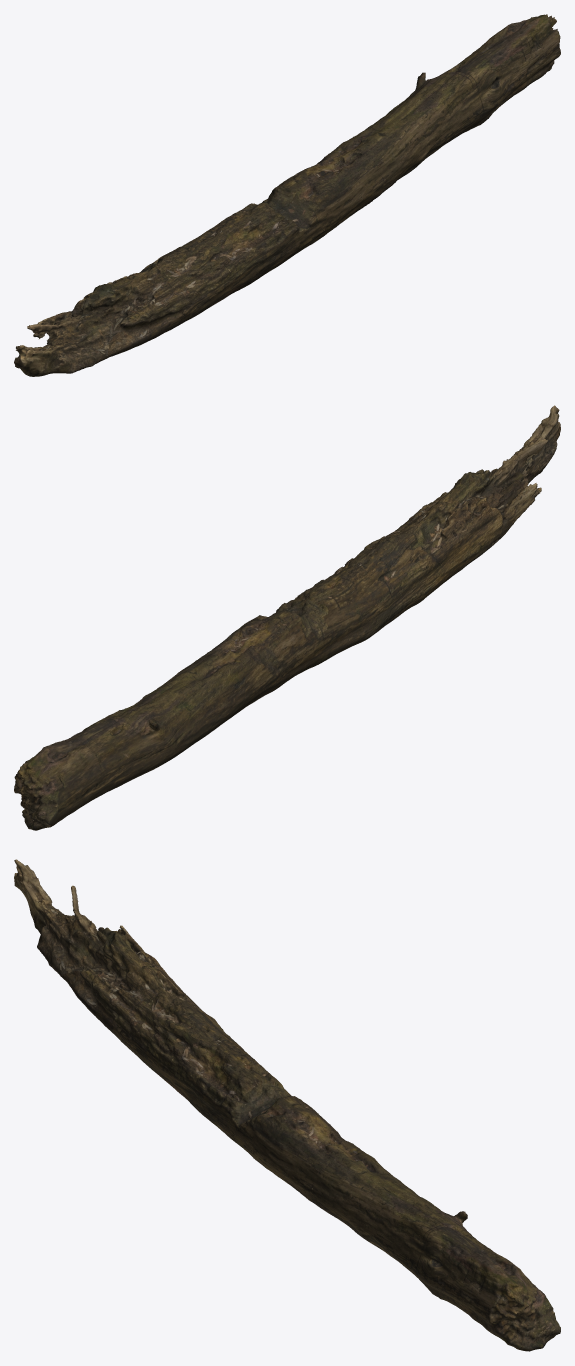
Rendered from SM_PH_dead_tree_trunk.fbx.
3 renders of one model, top to bottom at view 1: azimuth 30°, elevation 25°; view 2: azimuth 210°, elevation 25°; view 3: azimuth 270°, elevation 25°, orthographic. The views are drawn at different scales.
Visible parts, largest first — view 1: SM_PH_dead_tree_trunk; view 2: SM_PH_dead_tree_trunk; view 3: SM_PH_dead_tree_trunk.
Boxes of the visible parts, x1,y1,x2,y2 form: SM_PH_dead_tree_trunk: (14,14,560,376); SM_PH_dead_tree_trunk: (14,405,560,830); SM_PH_dead_tree_trunk: (14,859,560,1351).
Size of the model in its own units: 2.69 by 1.5 by 0.2904.
1 material, 1 textured.
